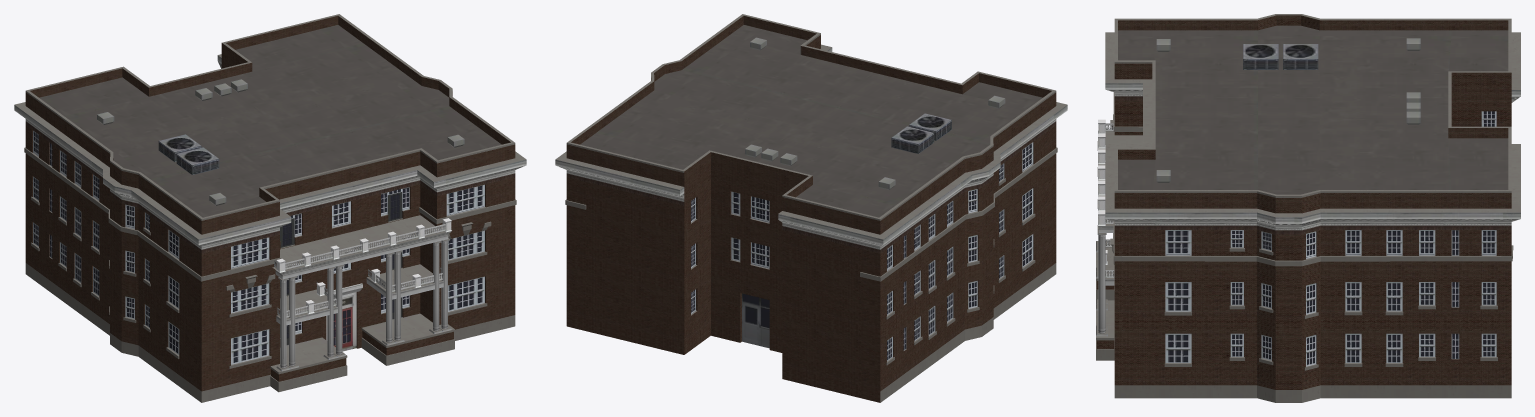
File: richmond.glb
3 renders of one model, left to right at view 1: azimuth 30°, elevation 25°; view 2: azimuth 150°, elevation 25°; view 3: azimuth 270°, elevation 25°, orthographic. The views are drawn at different scales.
Visible parts, largest first — view 1: Object_2; view 2: Object_2; view 3: Object_2.
Part boxes in pixels (bbox=[...]): Object_2: bbox=[14, 14, 526, 402]; Object_2: bbox=[555, 14, 1067, 402]; Object_2: bbox=[1096, 14, 1520, 402].
Size of the model in its own units: 2400 by 1225 by 2270.
Materials: 1 (1 with a texture image).
